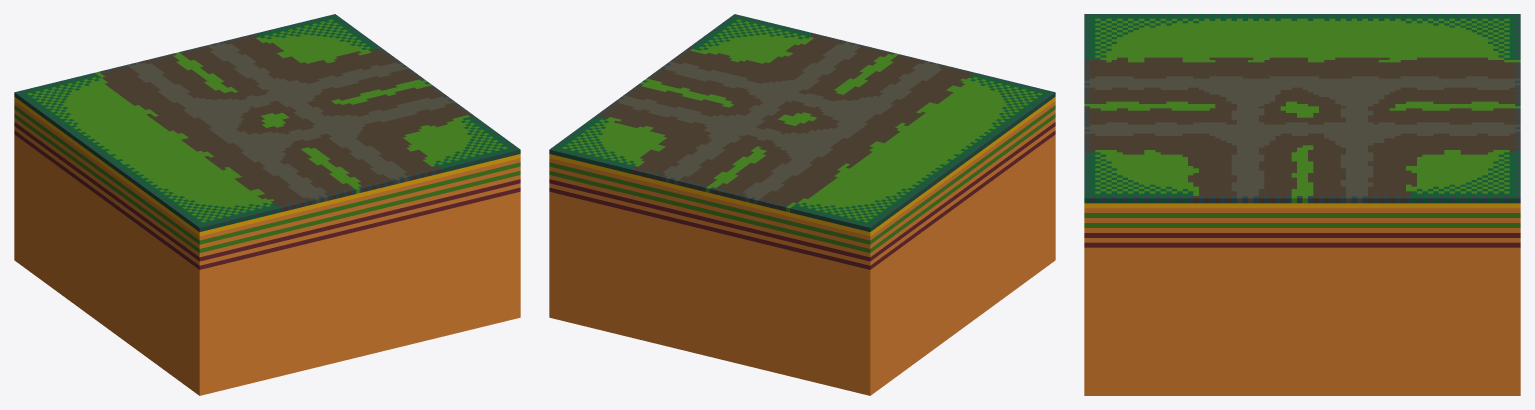
The model's file is dirt_road_3_tile.obj.
The picture shows the model from 3 angles, left to right: view 1: azimuth 30°, elevation 25°; view 2: azimuth 150°, elevation 25°; view 3: azimuth 270°, elevation 25°; orthographic projection. The views are drawn at different scales.
Size of the model in its own units: 8 by 4 by 8.
Materials: 1 (1 with a texture image).
